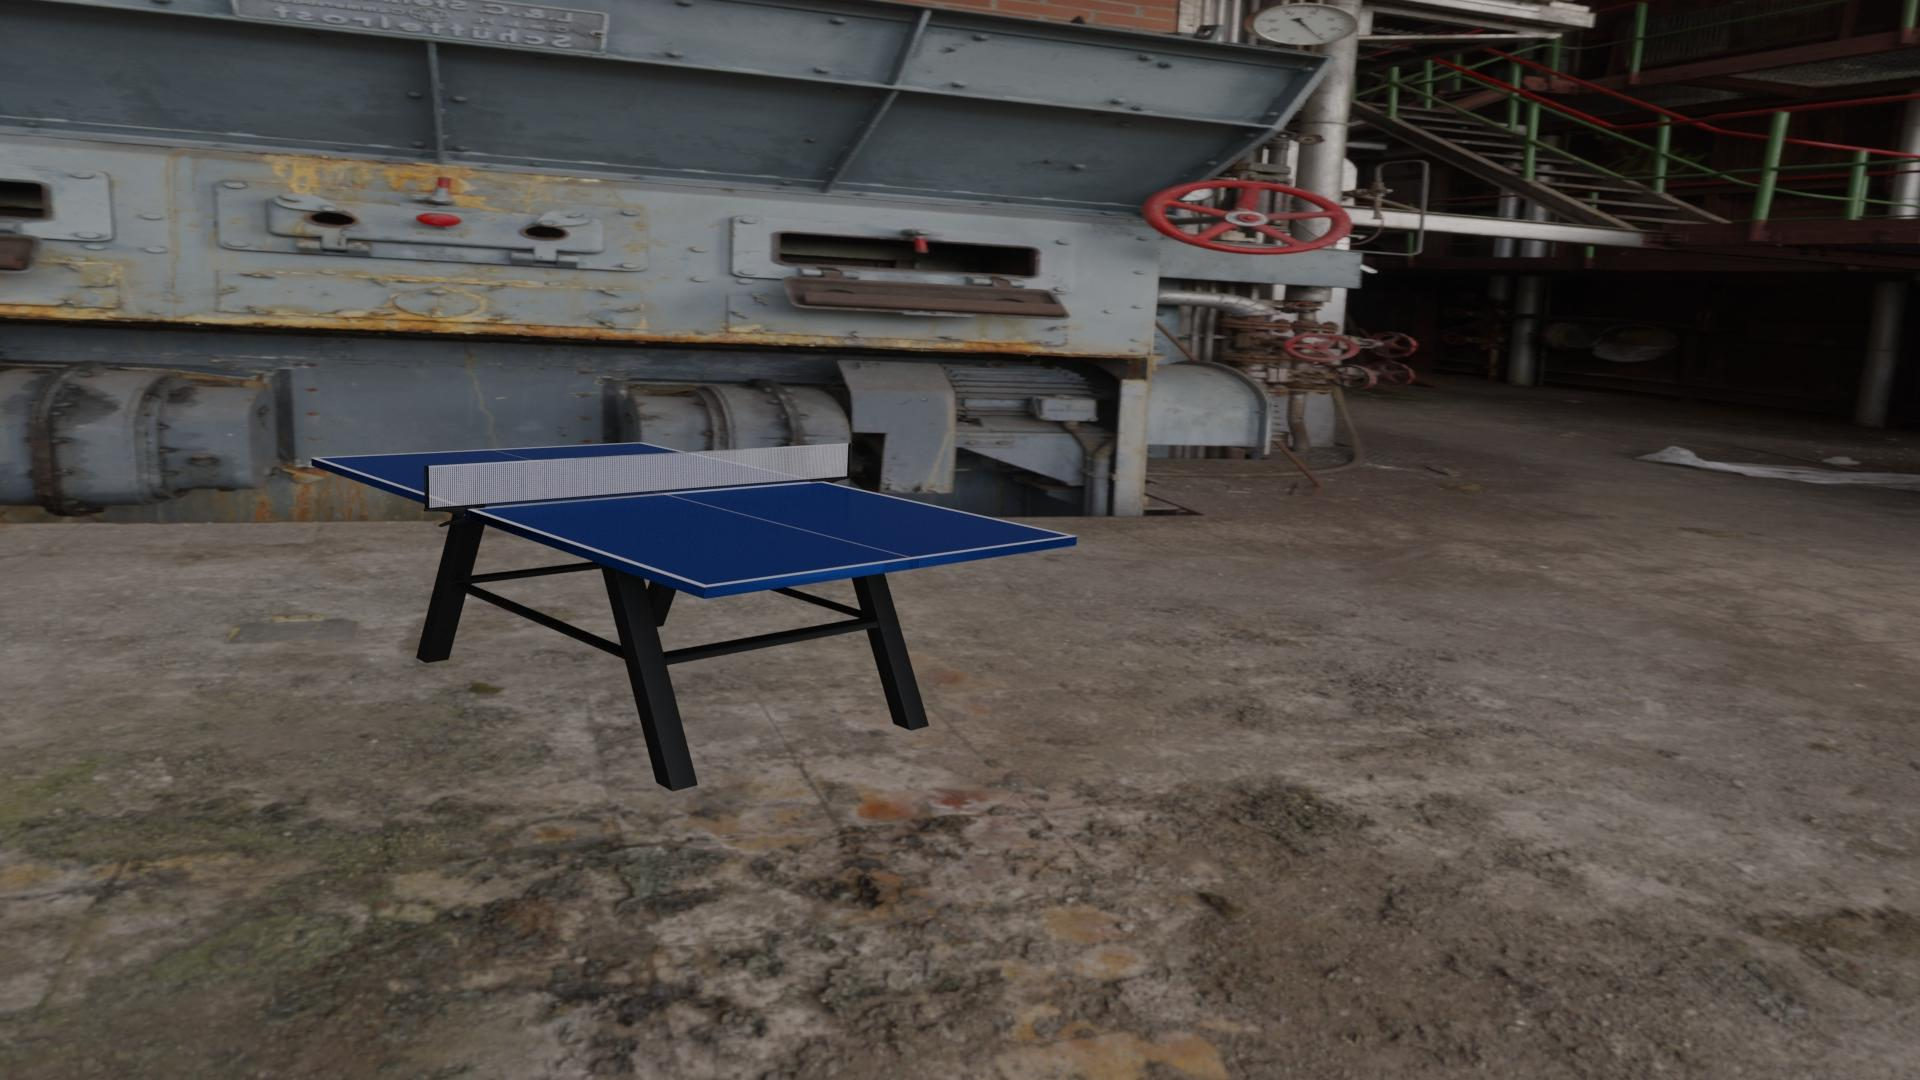table: (318, 443, 1069, 585)
